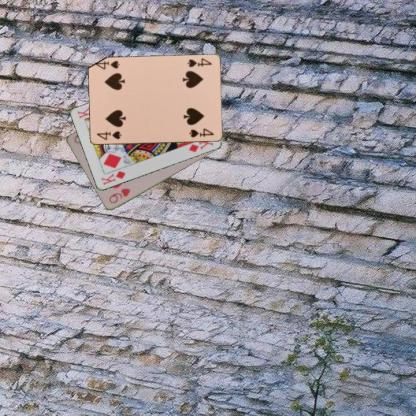4s: (185, 55, 213, 69), (94, 129, 123, 141)
9h: (106, 186, 132, 205)
Kd: (98, 168, 127, 186)
